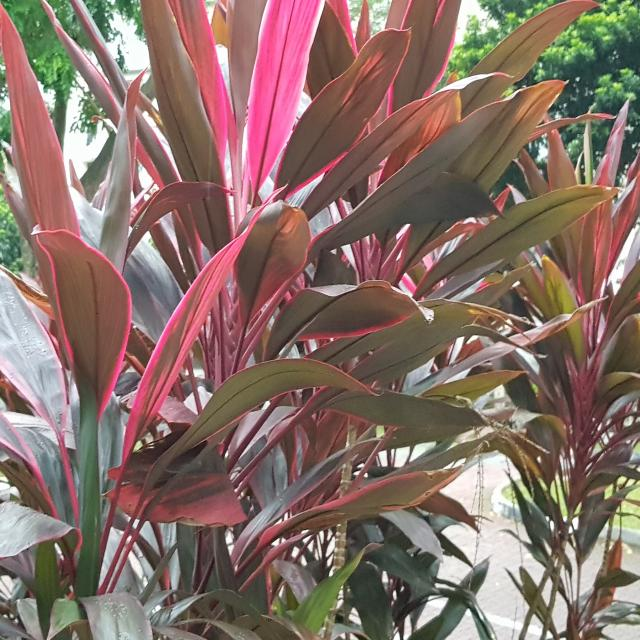Ti: (2, 16, 288, 590), (504, 74, 640, 640)
